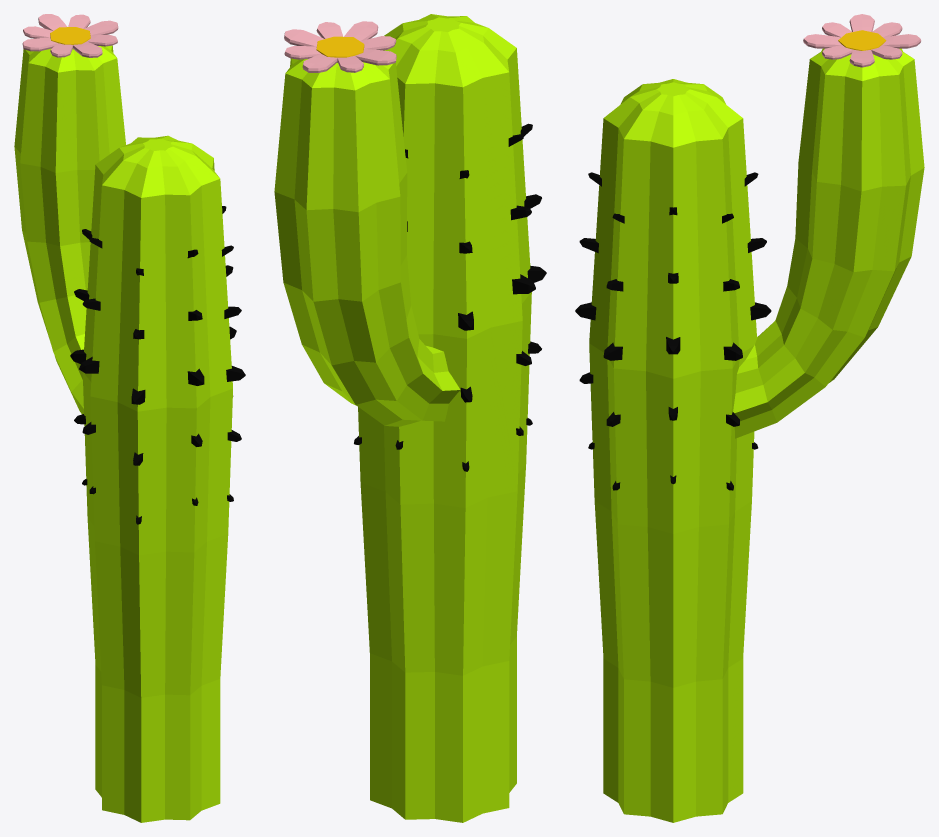
The model's file is Cardon03_01Brazo_Flor_Rosada.fbx.
The picture shows the model from 3 angles, left to right: view 1: azimuth 30°, elevation 25°; view 2: azimuth 150°, elevation 25°; view 3: azimuth 270°, elevation 25°; orthographic projection. The views are drawn at different scales.
Visible parts, largest first — view 1: Cactus_Cuerpo, Espinas, Flor_Rosada; view 2: Cactus_Cuerpo, Flor_Rosada, Espinas; view 3: Cactus_Cuerpo, Flor_Rosada, Espinas.
Boxes of the visible parts, x1,y1,x2,y2 form: Cactus_Cuerpo: [14, 45, 232, 822]; Espinas: [70, 206, 245, 524]; Flor_Rosada: [22, 14, 118, 57]; Cactus_Cuerpo: [274, 14, 531, 822]; Flor_Rosada: [284, 21, 396, 72]; Espinas: [354, 123, 546, 471]; Cactus_Cuerpo: [589, 48, 924, 822]; Flor_Rosada: [803, 14, 921, 67]; Espinas: [575, 172, 771, 490].
Bounding box in the file's own units: 53.18 × 226 × 94.85.
